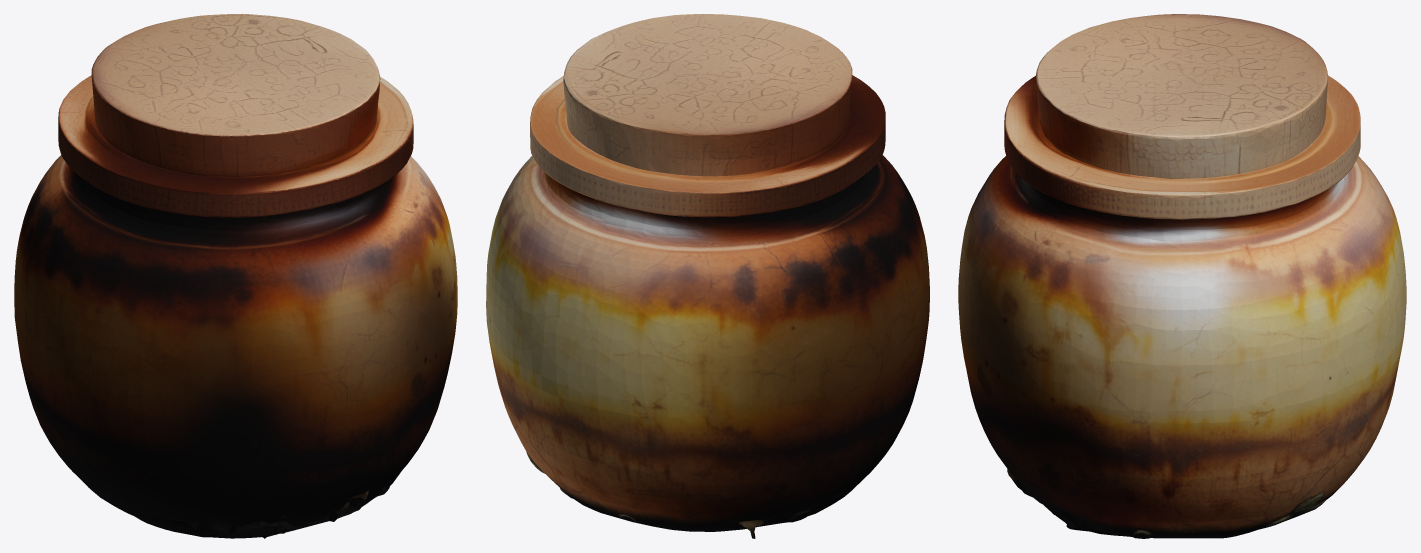
File: cork-lid-storage-jar-rustic.jpeg.glb
The picture shows the model from 3 angles, left to right: view 1: azimuth 30°, elevation 25°; view 2: azimuth 150°, elevation 25°; view 3: azimuth 270°, elevation 25°; orthographic projection.
Visible parts, largest first — view 1: world; view 2: world; view 3: world.
Part boxes in pixels (box(x1,y1,x2,y2)): world: box(14, 14, 457, 538); world: box(486, 14, 929, 538); world: box(958, 14, 1406, 538).
Size of the model in its own units: 0.996 by 1 by 0.9968.
Materials: 1 (1 with a texture image).
